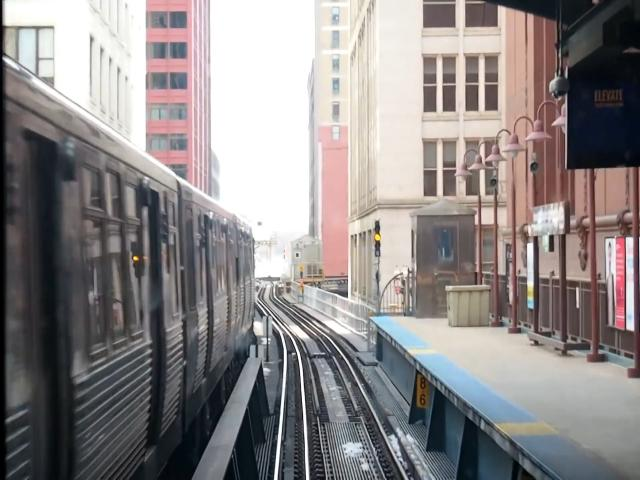signal light: (375, 221, 384, 261)
